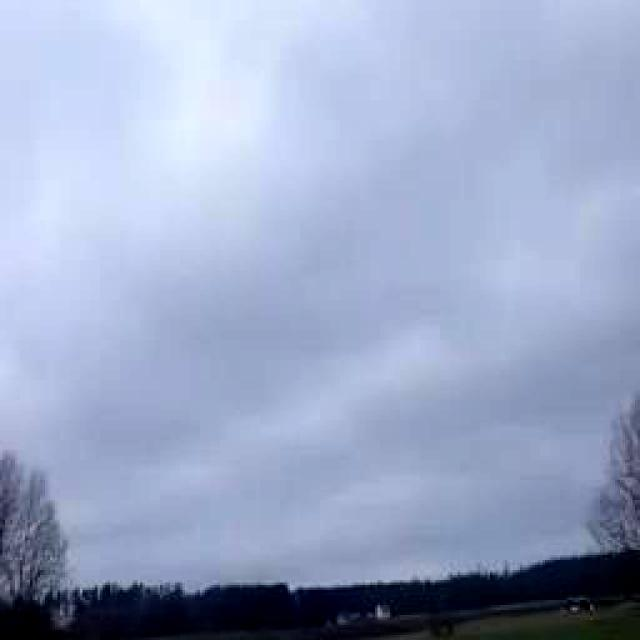bird: (552, 582, 610, 628)
